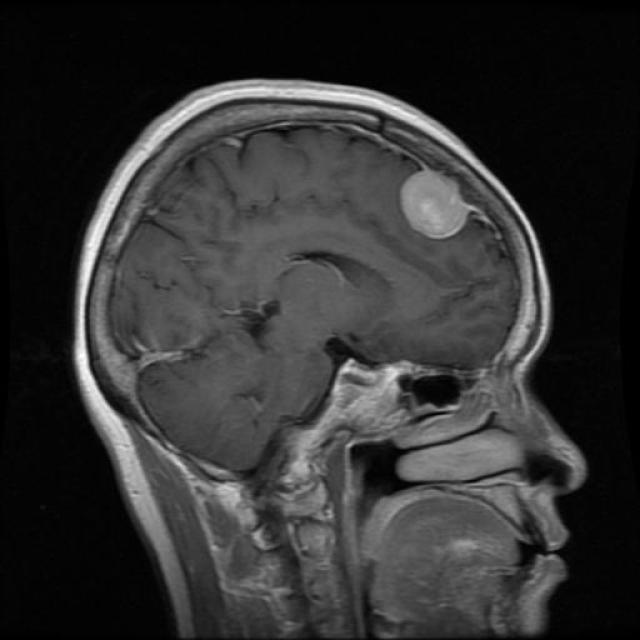meningioma: (401, 171, 474, 241)
